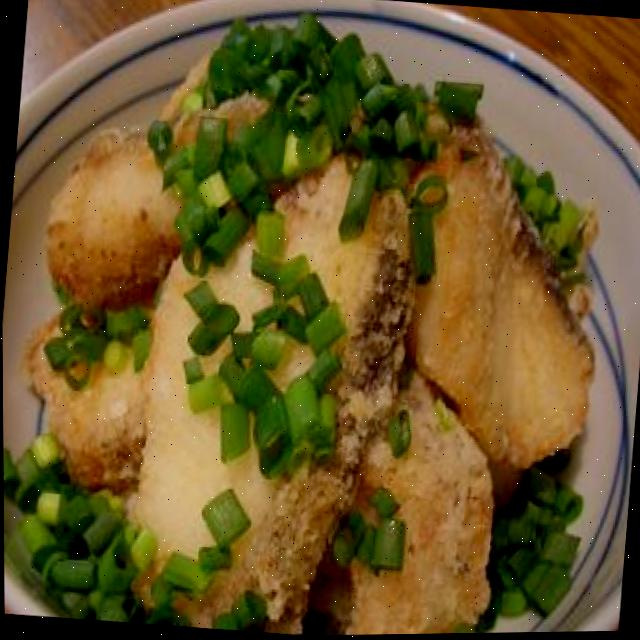炸货点心: (3, 48, 640, 640)
熟制海鲜: (3, 48, 640, 640)
